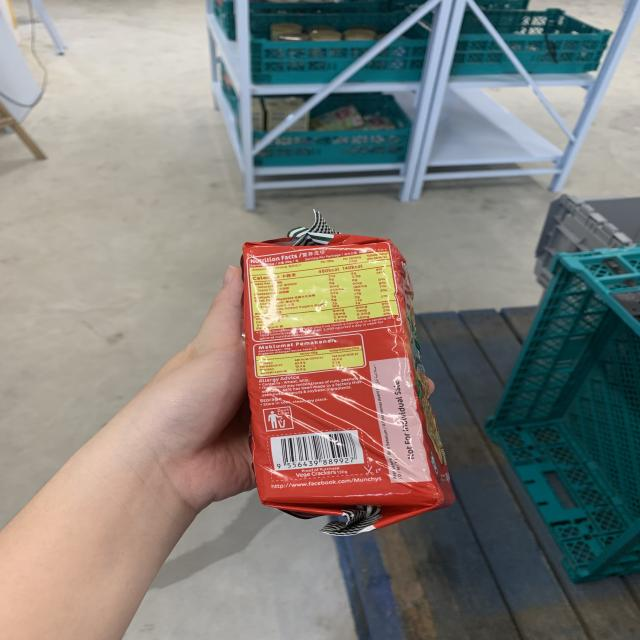object_name: (241, 246, 436, 506)
